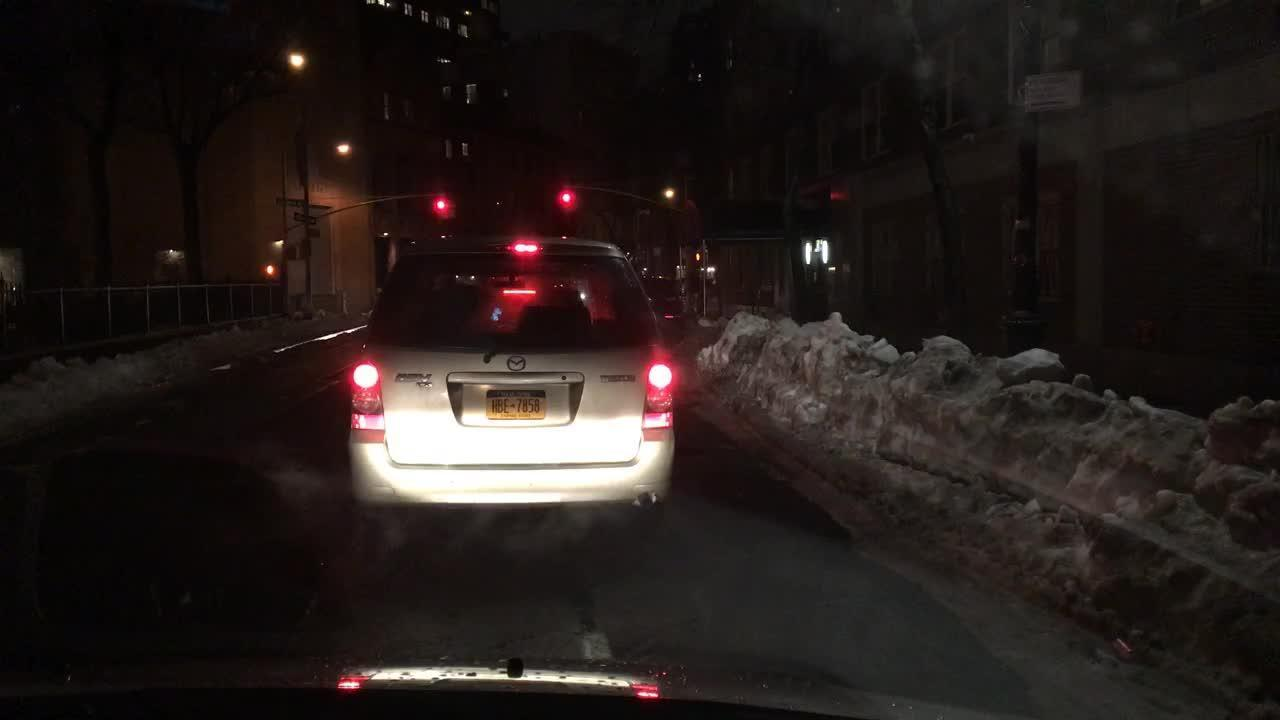Mazda: (502, 352, 530, 374)
